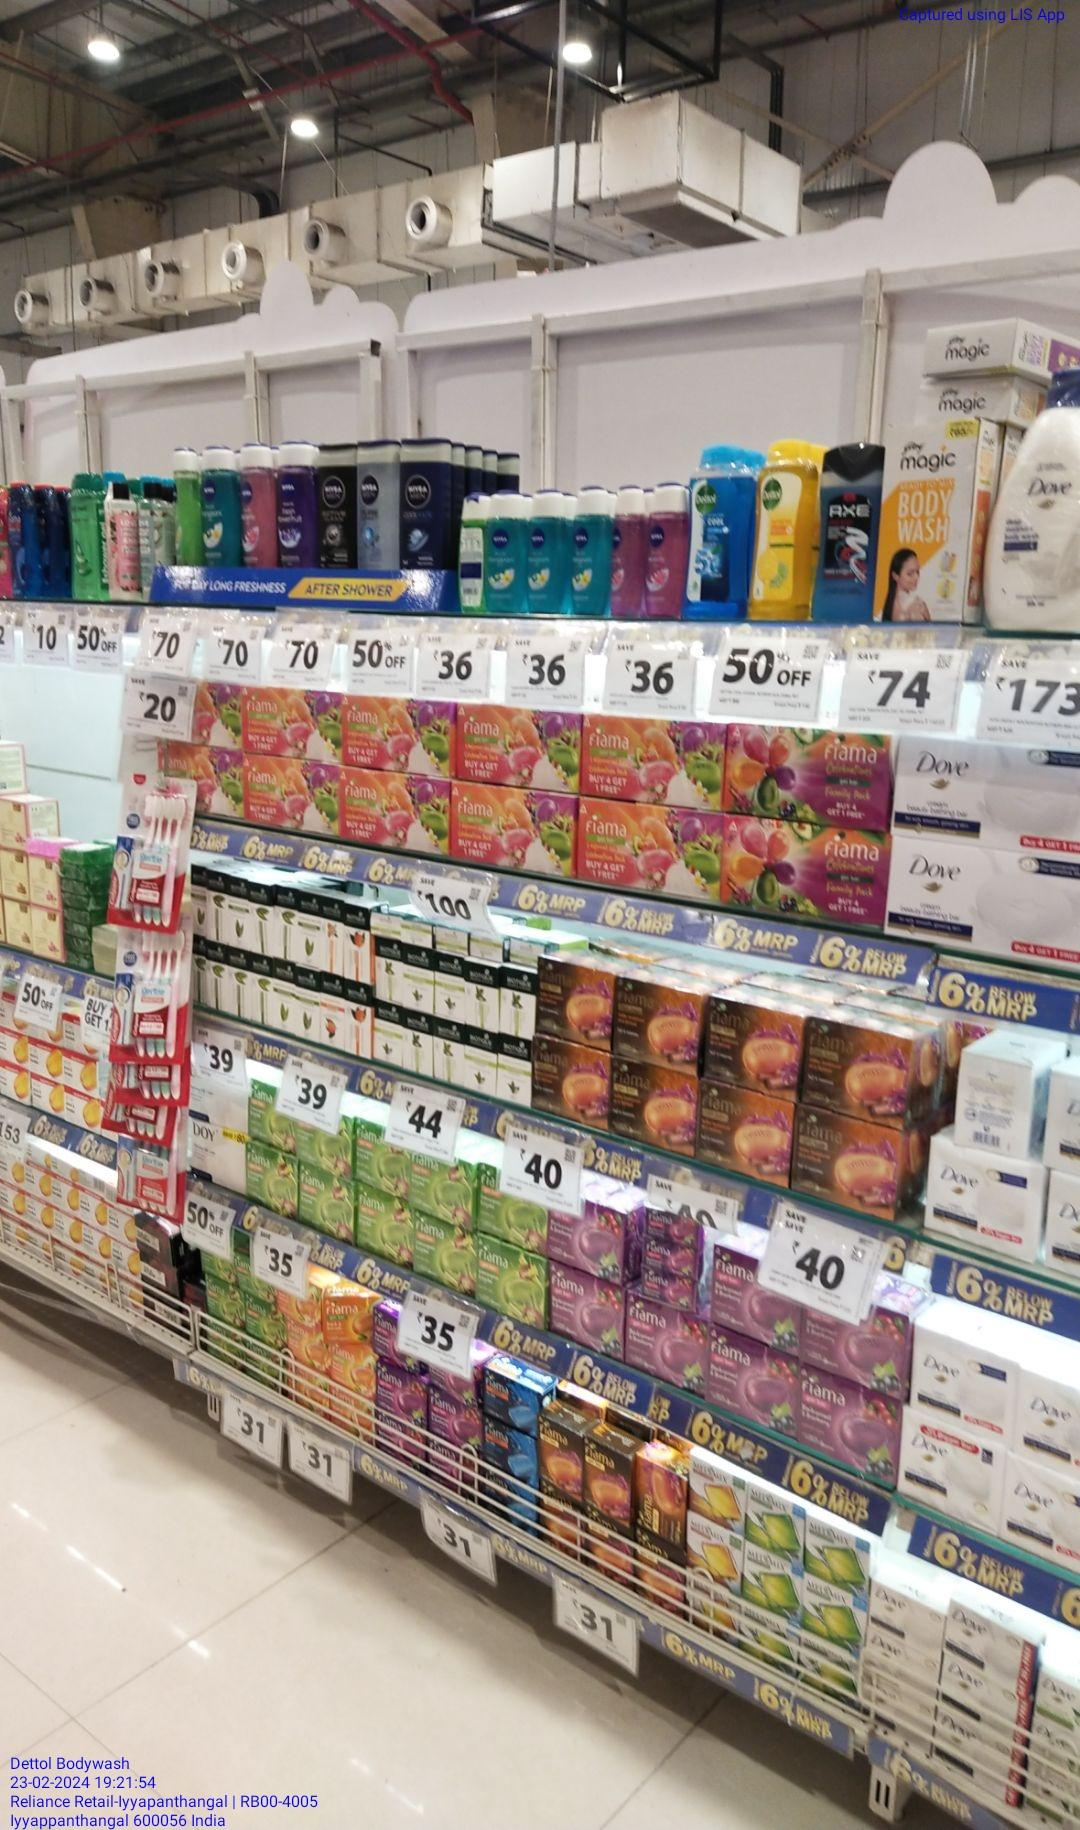Dettol_Bodywash_Cool: (689, 446, 750, 619)
Dettol_Bodywash_Refresh: (753, 438, 815, 622)
Nivea_Shower_Gel_Frangipani_and_Oil_250ML: (481, 493, 527, 614), (571, 492, 609, 616)
Nivea_Shower_Gel_Waterlily_and_Oil_250ML: (644, 487, 688, 618)
